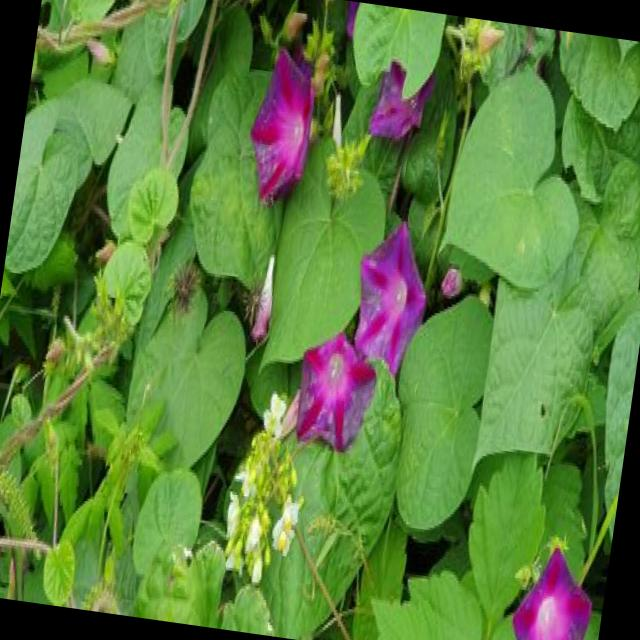ipomoea: (284, 204, 440, 467), (212, 384, 321, 596), (342, 210, 440, 384), (236, 37, 326, 218), (286, 322, 384, 462), (502, 534, 602, 640), (363, 54, 438, 154)
